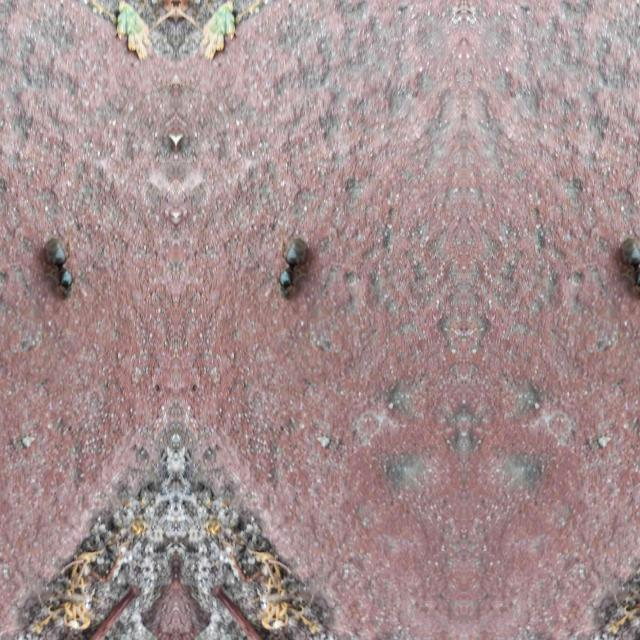Lasius: (264, 230, 312, 302), (38, 230, 86, 302), (612, 230, 640, 302)
